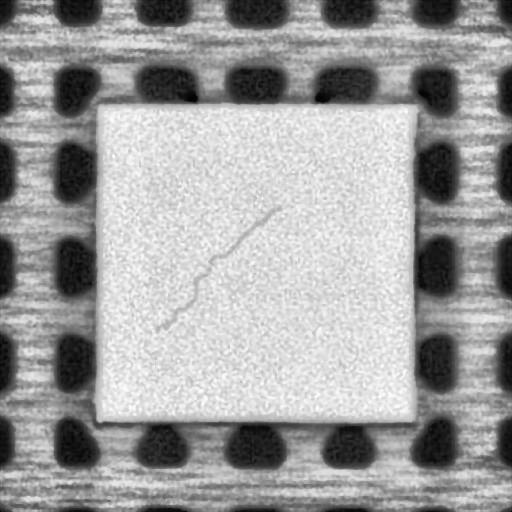DIE_CRACK: (156, 202, 286, 340)
